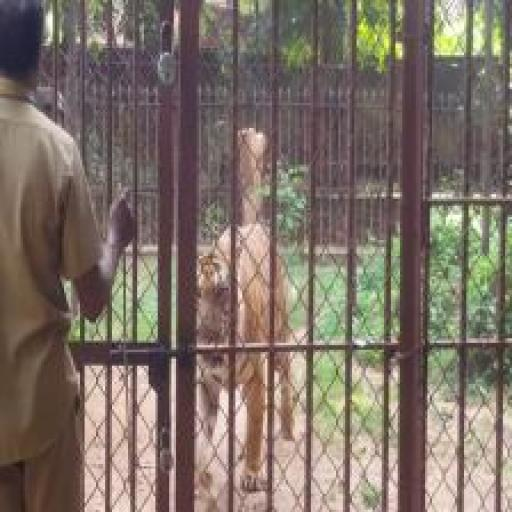Tiger: (196, 219, 308, 512)
